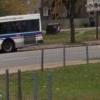Bus: (1, 10, 46, 53)
